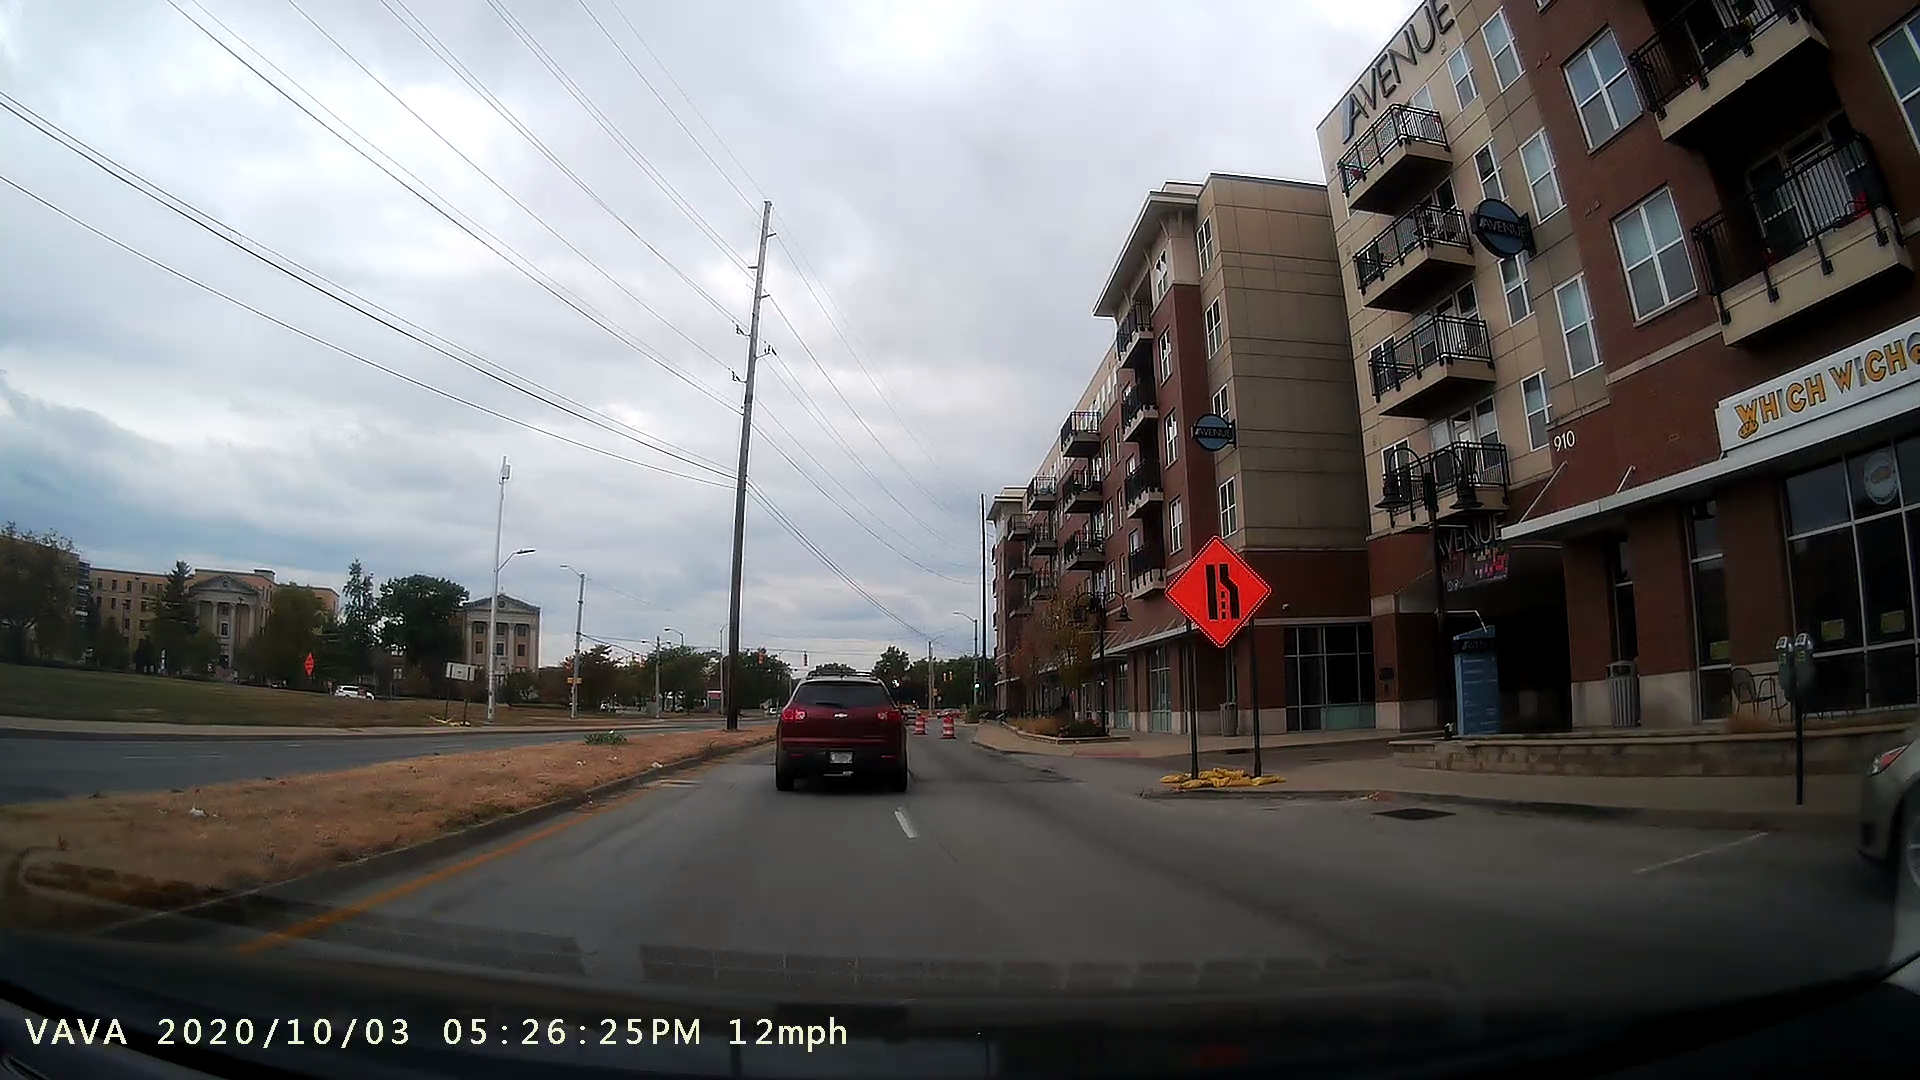ttcs_right_lane_reduction: (1155, 520, 1276, 794)
